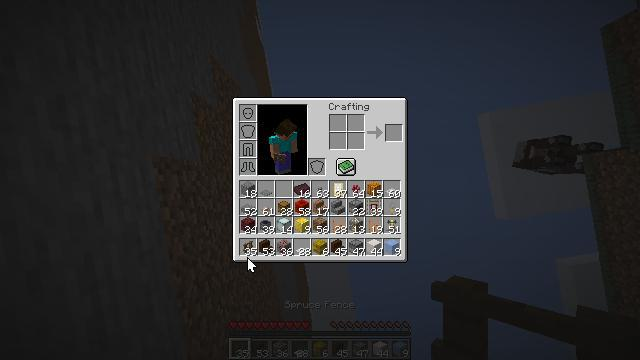cursor: (247, 257, 257, 273)
